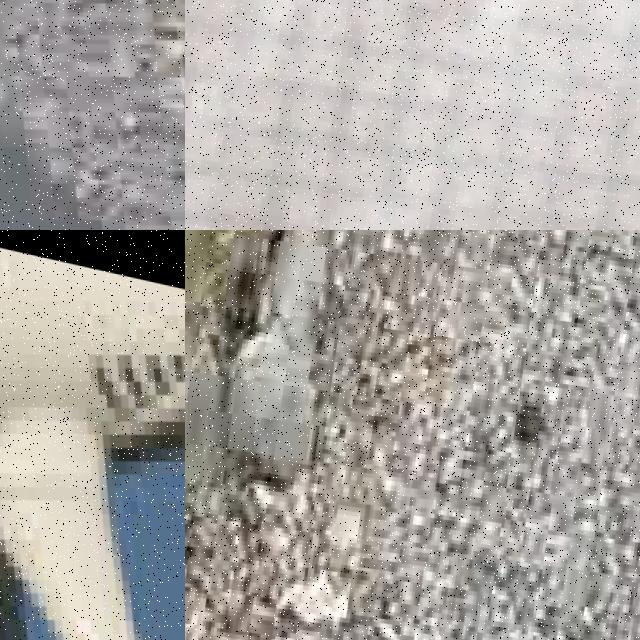drone: (0, 230, 185, 640), (0, 0, 185, 230)
